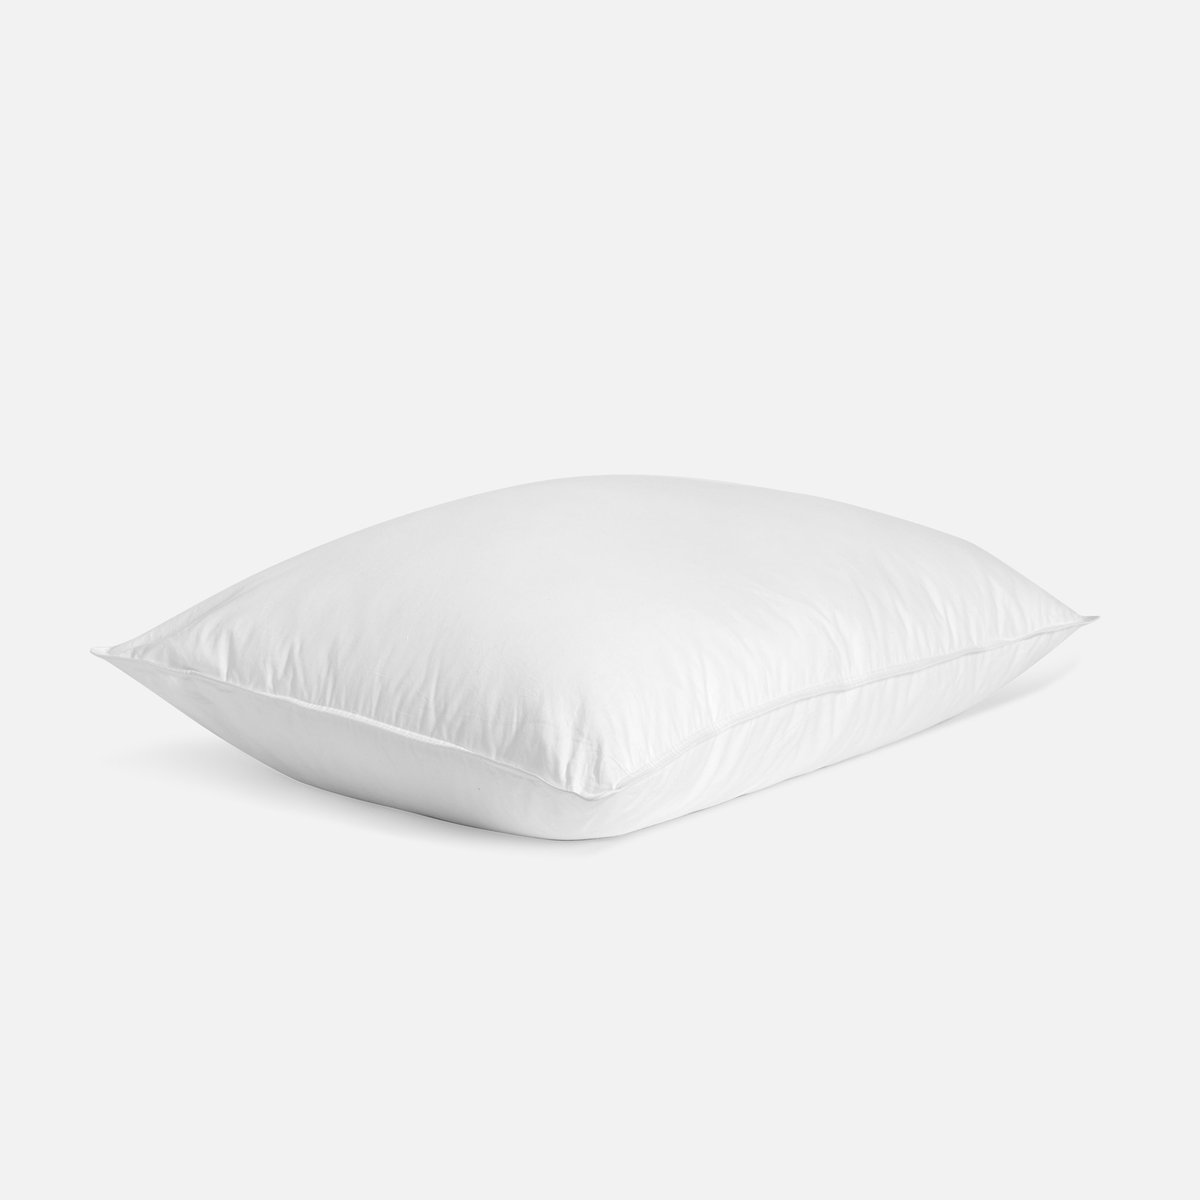bantal: (69, 465, 1098, 840)
